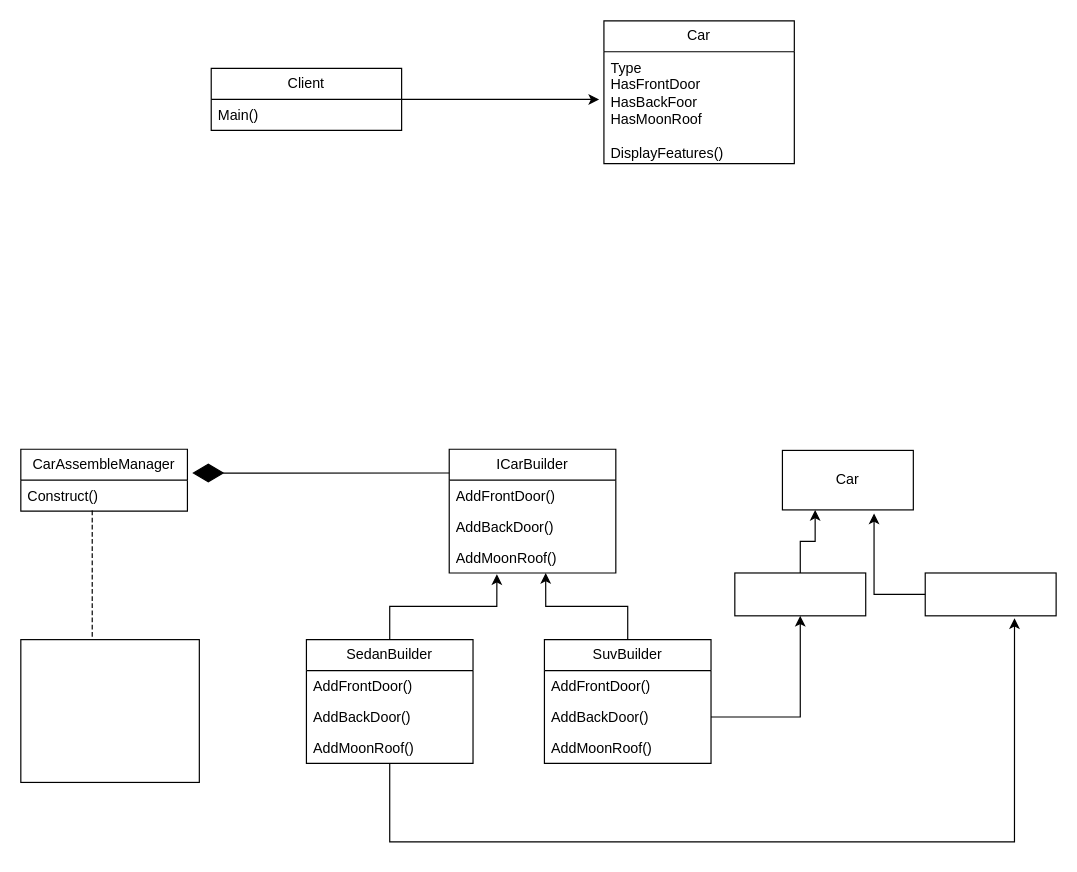
The diagram is 1077 pixels wide and 872 high, and some of its shapes have lost their labels. Here are the shapes that lost their labels. From the top down, the centre of each, then its label:
At [800,594]: "SUV".
At [990,594]: "Sedan".
At [109,710]: "Car car = builder.AddFrontDoor() .AddBackDoor() .AddMoonRoof() .Build()".
